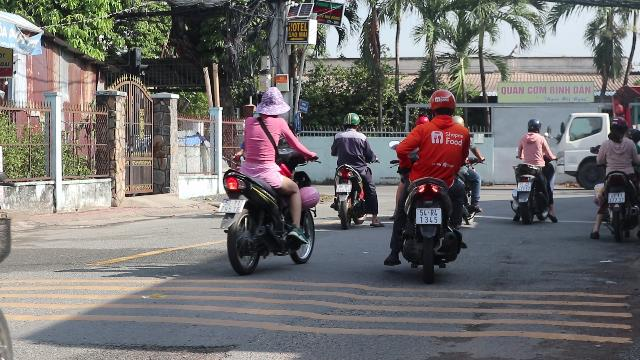helmet: (427, 89, 457, 118), (608, 118, 628, 138), (342, 112, 361, 130), (525, 118, 541, 133)
licenseplate: (416, 208, 442, 224), (219, 199, 245, 212), (608, 193, 624, 203), (336, 184, 352, 192), (518, 183, 530, 192)
motorcyclist: (215, 85, 321, 273), (384, 88, 480, 280), (590, 118, 640, 241), (328, 112, 380, 228), (508, 117, 558, 223)
nohelmet: (254, 86, 290, 118)
